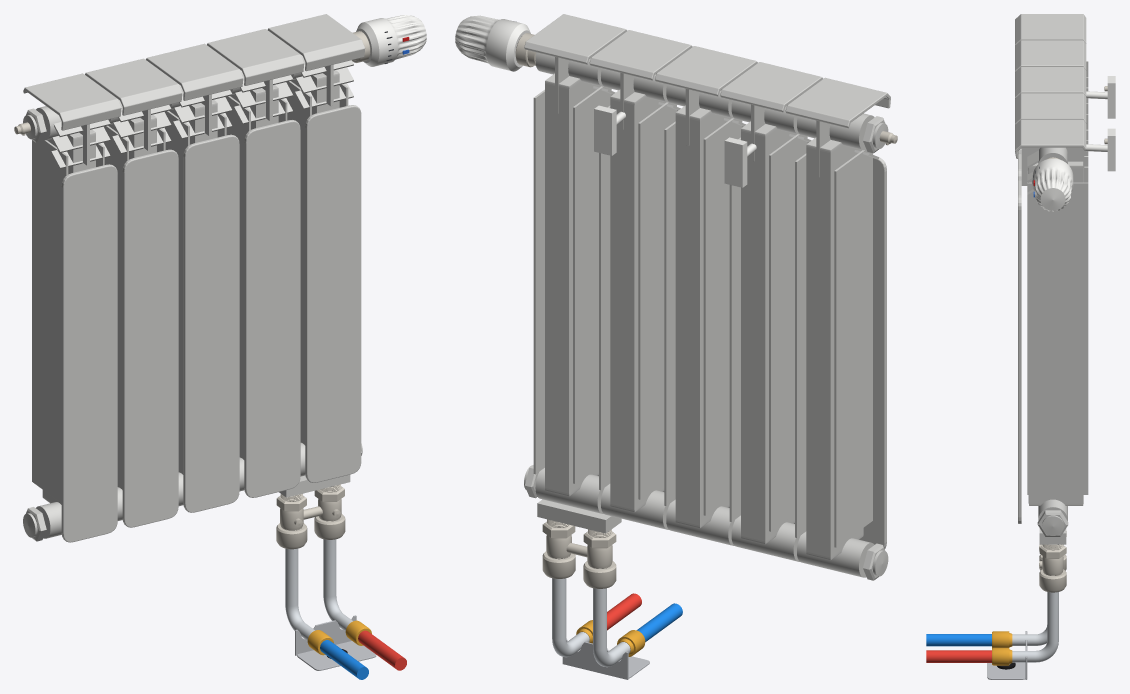
Rendered from rad_node_space_straight.glb.
The picture shows the model from 3 angles, left to right: view 1: azimuth 30°, elevation 25°; view 2: azimuth 150°, elevation 25°; view 3: azimuth 270°, elevation 25°; orthographic projection. The views are drawn at different scales.
Visible parts, largest first — view 1: панель секции.002, панель секции, панель секции.001, панель секции.004, панель секции.003, ребро, козырёк, козырёк.001, козырёк.002, козырёк.003, козырёк.004, ребро.008 (+19 smaller); view 2: ребро, тело секции, тело секции.002, тело секции.003, тело секции.004, тело секции.001, ребро.006, ребро.004, ребро.002, ребро.008, панель секции, ребро.005 (+29 smaller); view 3: ребро.009, козырёк.004, козырёк.001, козырёк.003, козырёк, козырёк.002, термоголовка, панель секции.004, трубка Г-образная, труба 16, труба 16.001, тело секции.004 (+13 smaller).
Part boxes in pixels (bbox=[...]): панель секции.002: bbox=[183, 134, 239, 512]; панель секции: bbox=[61, 164, 117, 542]; панель секции.001: bbox=[122, 149, 178, 527]; панель секции.004: bbox=[305, 105, 361, 482]; панель секции.003: bbox=[244, 120, 300, 497]; ребро: bbox=[32, 140, 68, 502]; козырёк: bbox=[23, 73, 121, 130]; козырёк.001: bbox=[85, 58, 182, 115]; козырёк.002: bbox=[146, 43, 243, 100]; козырёк.003: bbox=[207, 29, 304, 85]; козырёк.004: bbox=[267, 14, 365, 71]; ребро.008: bbox=[286, 81, 311, 443]; ребро: bbox=[834, 150, 872, 547]; тело секции: bbox=[806, 137, 863, 560]; тело секции.002: bbox=[675, 105, 731, 528]; тело секции.003: bbox=[610, 89, 666, 512]; тело секции.004: bbox=[545, 73, 600, 496]; тело секции.001: bbox=[741, 121, 796, 544]; ребро.006: bbox=[638, 102, 676, 499]; ребро.004: bbox=[703, 118, 742, 515]; ребро.002: bbox=[769, 134, 807, 531]; ребро.008: bbox=[573, 86, 611, 483]; панель секции: bbox=[859, 157, 886, 548]; ребро.005: bbox=[664, 121, 675, 505]; ребро.009: bbox=[1027, 182, 1088, 494]; козырёк.004: bbox=[1015, 119, 1086, 158]; козырёк.001: bbox=[1015, 40, 1086, 71]; козырёк.003: bbox=[1015, 93, 1086, 124]; козырёк: bbox=[1015, 14, 1086, 45]; козырёк.002: bbox=[1015, 67, 1086, 98]; термоголовка: bbox=[1032, 158, 1073, 211]; панель секции.004: bbox=[1018, 179, 1021, 523]; трубка Г-образная: bbox=[1012, 592, 1058, 662]; труба 16: bbox=[926, 650, 991, 662]; труба 16.001: bbox=[926, 634, 991, 646]; тело секции.004: bbox=[1028, 161, 1083, 505].
Bounding box in the file's own units: 0.533 × 0.757 × 0.242.
